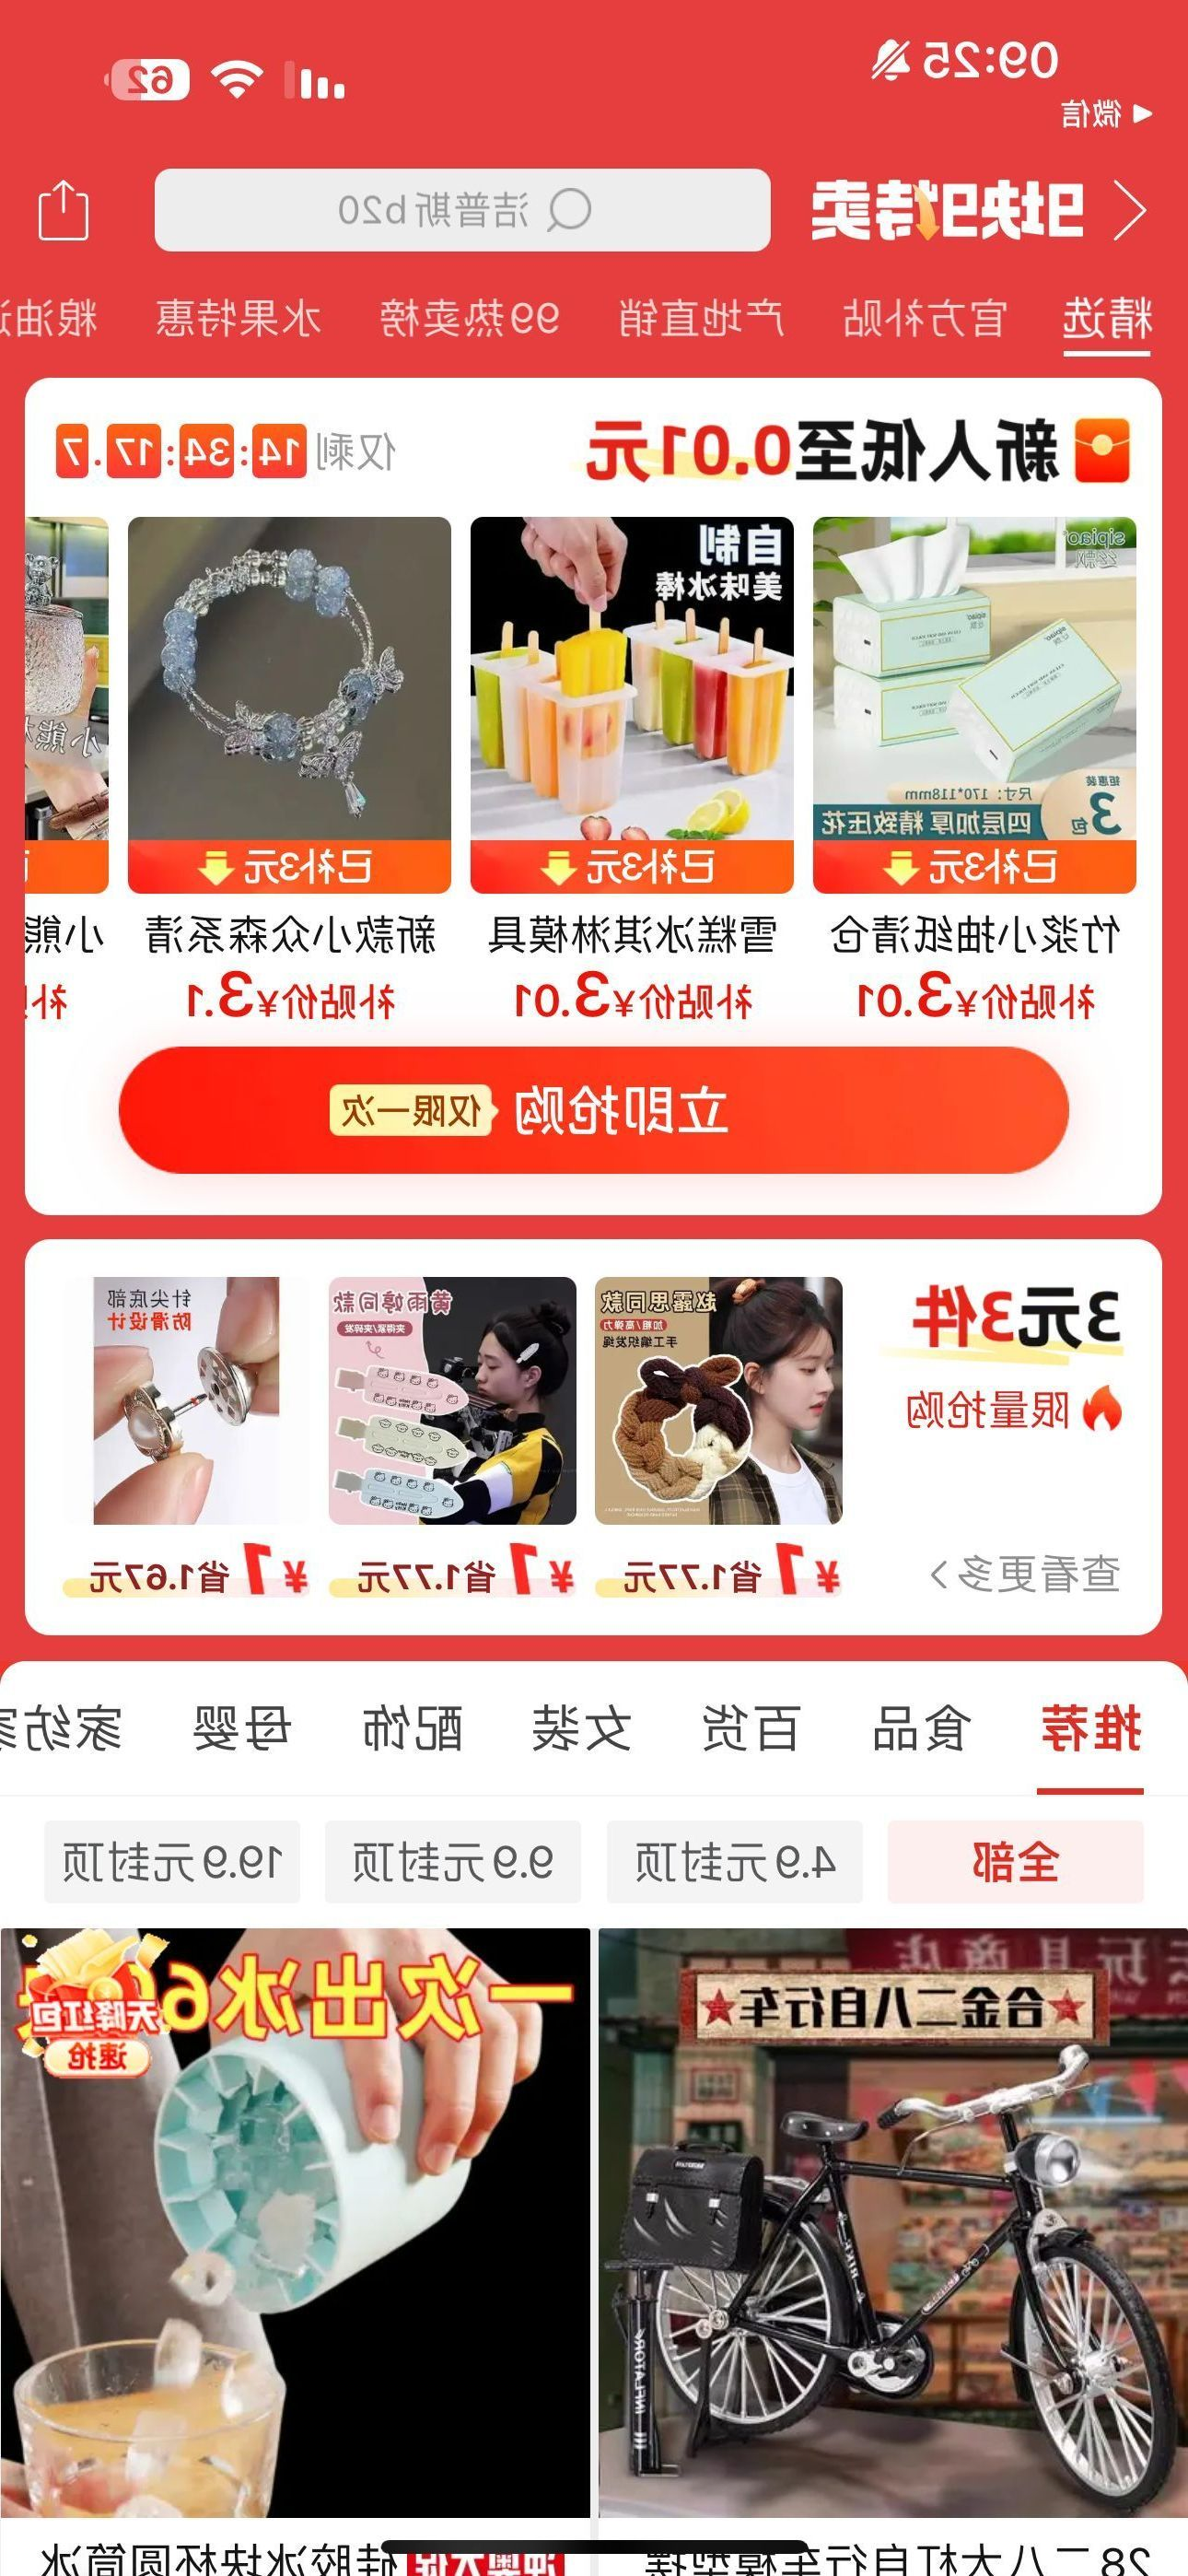item: (592, 1909, 1188, 2573), (5, 1912, 600, 2576)
op_bar: (10, 149, 1185, 276)
seckill: (3, 358, 1188, 1237), (2, 1230, 1185, 1640)
